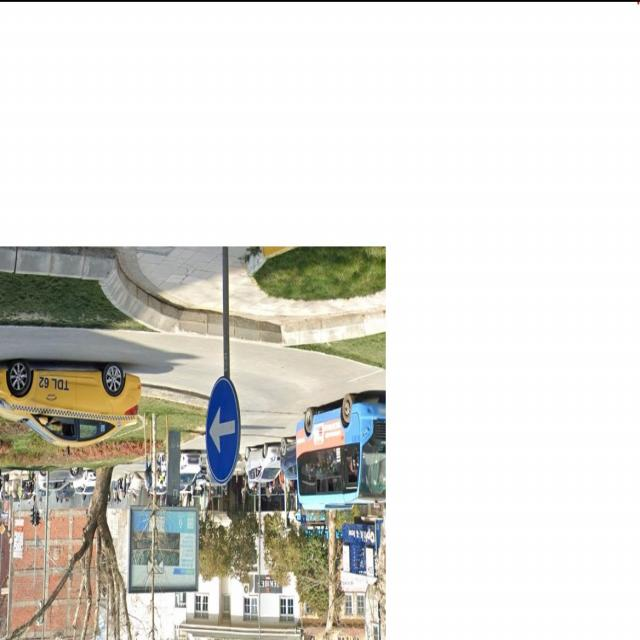Turn Left: (206, 374, 241, 482)
